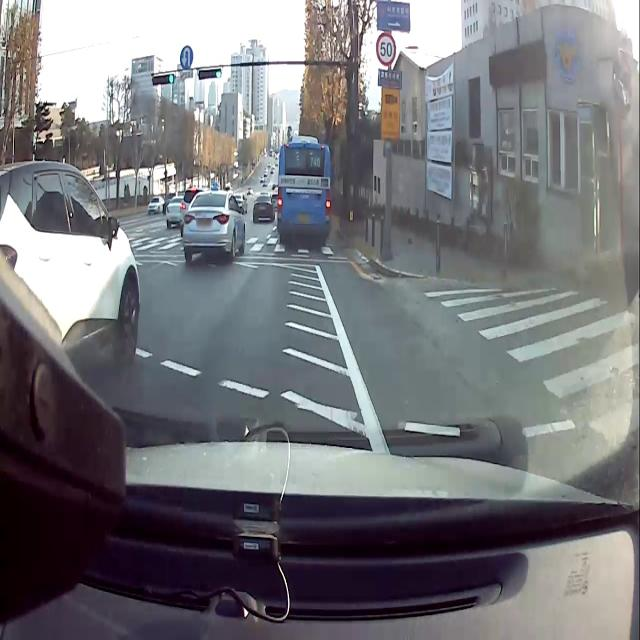Green Light: (215, 68, 222, 79), (168, 72, 174, 84)
